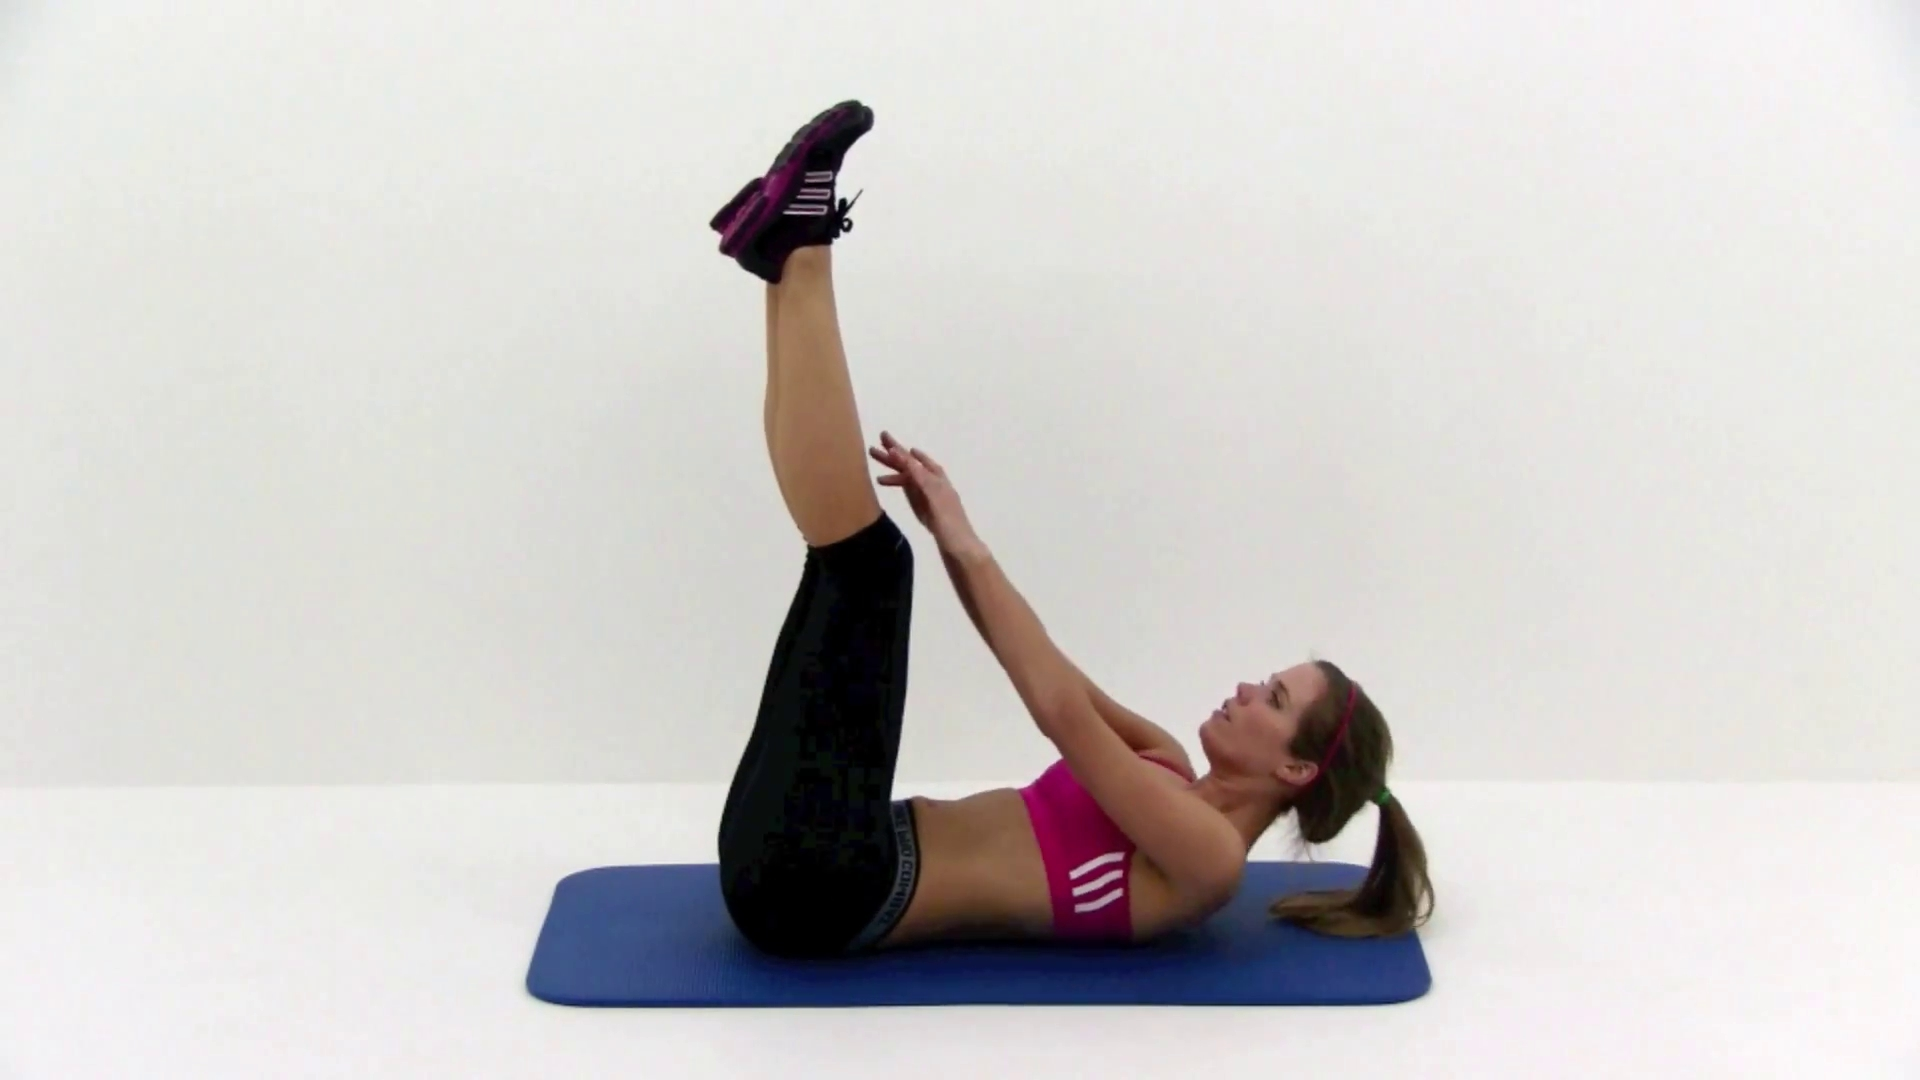person: (711, 100, 1436, 962)
